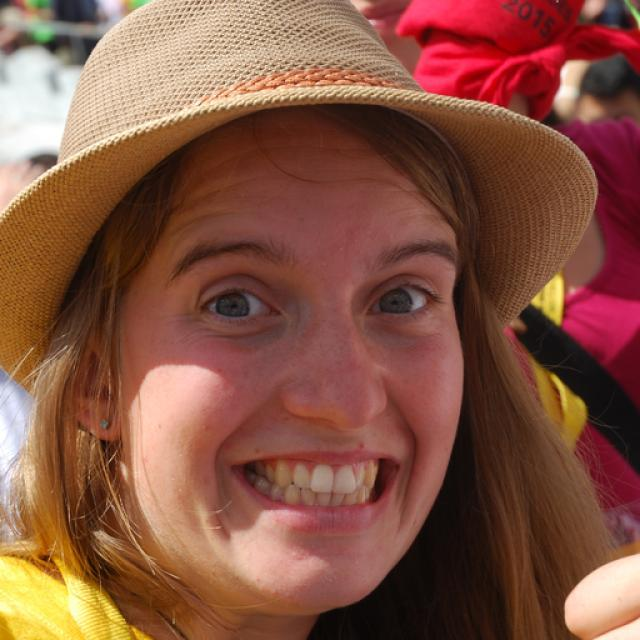happy: (120, 146, 466, 614)
